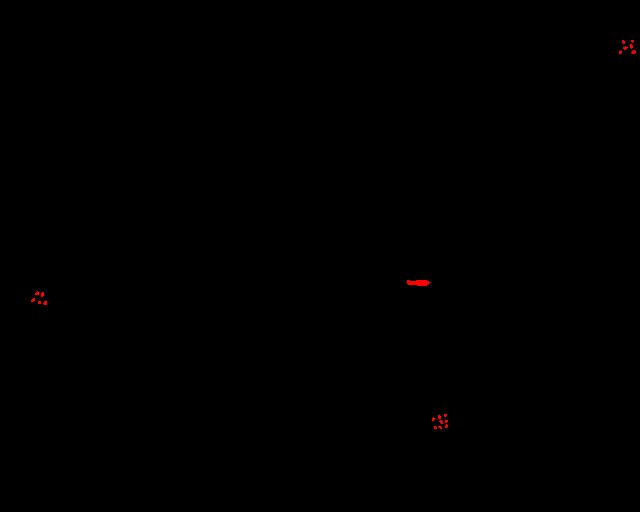Target: (407, 280, 431, 286), (623, 46, 628, 50), (631, 50, 636, 54), (35, 291, 39, 295), (31, 298, 35, 302), (43, 301, 47, 305), (439, 420, 443, 424), (630, 44, 633, 49), (41, 292, 44, 297), (622, 40, 625, 44), (438, 415, 441, 419), (432, 417, 435, 421), (445, 424, 448, 428), (438, 426, 442, 429), (631, 40, 634, 43), (619, 51, 622, 54), (38, 301, 41, 304), (444, 414, 447, 417), (445, 420, 448, 423), (434, 426, 437, 429)
